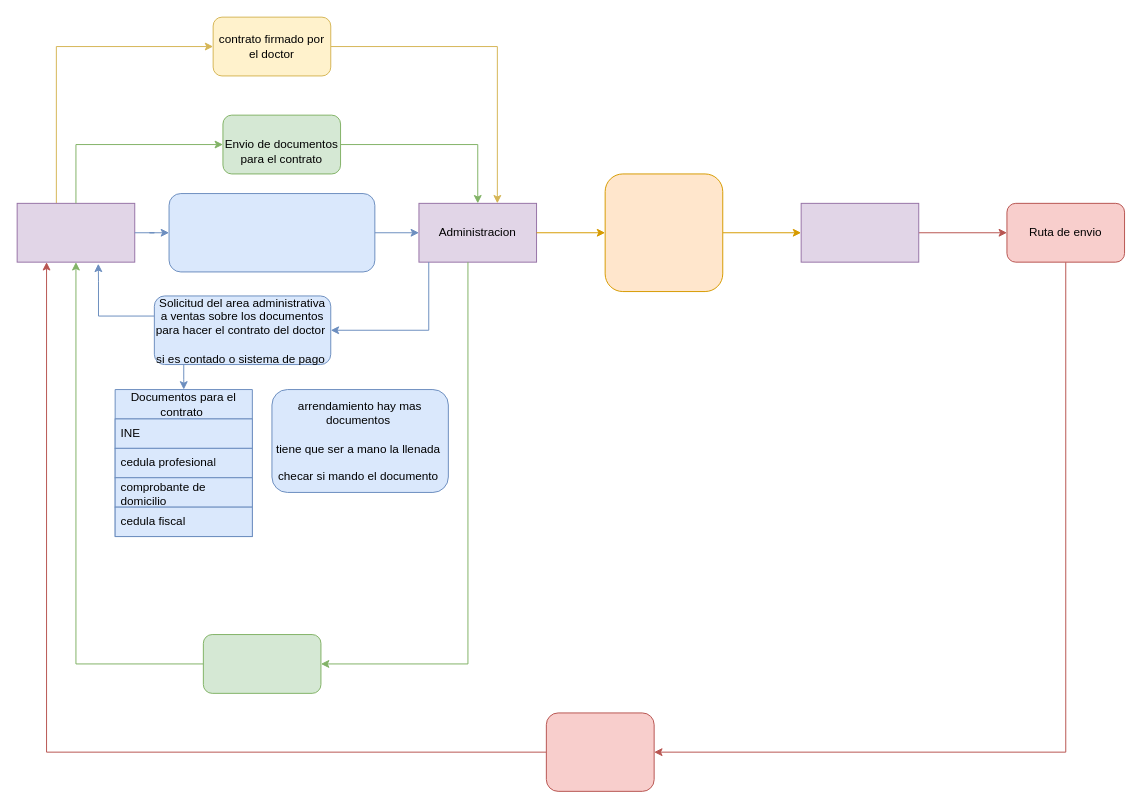
The diagram is 1142 pixels wide and 809 high, and some of its shapes have lost their labels. The shapes that lost their labels are listed below. From the top down, each one's centre as x and y in pixels, then its label:
pixel 75 232: Ventas
pixel 271 232: Notificacion "Se realizo venta y que tipo de venta fue"
pixel 663 232: Notificacion "ya se vendio el equipo" igual se envia el contrato
pixel 859 232: Logistica
pixel 261 663: contrato para el doctor
pixel 599 751: Notificacion "Equipo por llegar"
